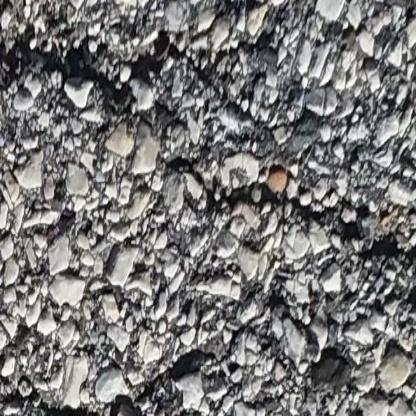Cracks: (0, 298, 323, 416), (0, 24, 255, 146), (163, 151, 416, 263)
